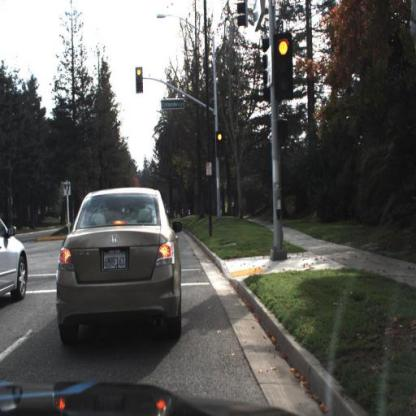car: (55, 184, 185, 350), (1, 203, 30, 304)
trafficLight-Red: (272, 29, 296, 104), (216, 129, 226, 159), (136, 66, 146, 94)
